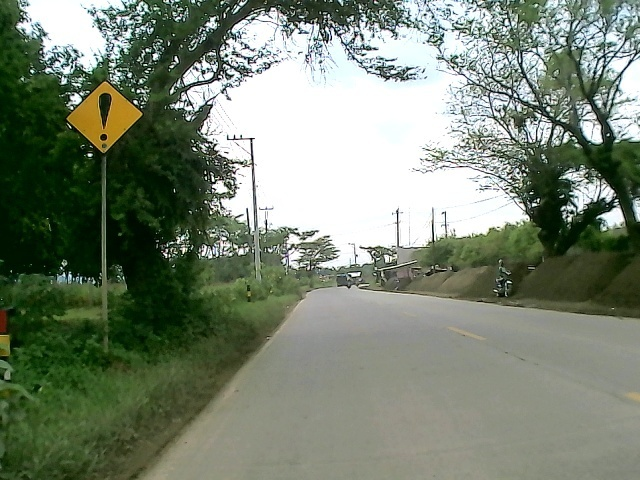Hati-hati: (61, 78, 146, 157)
